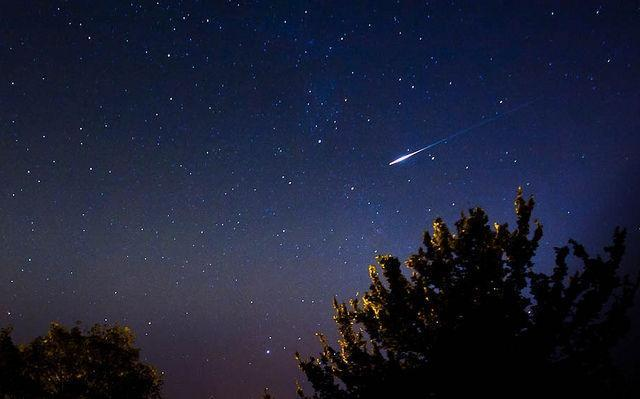meteorite: (380, 110, 508, 172)
